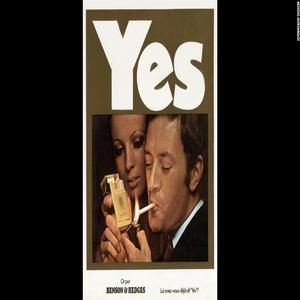cigarette: (135, 201, 156, 217)
